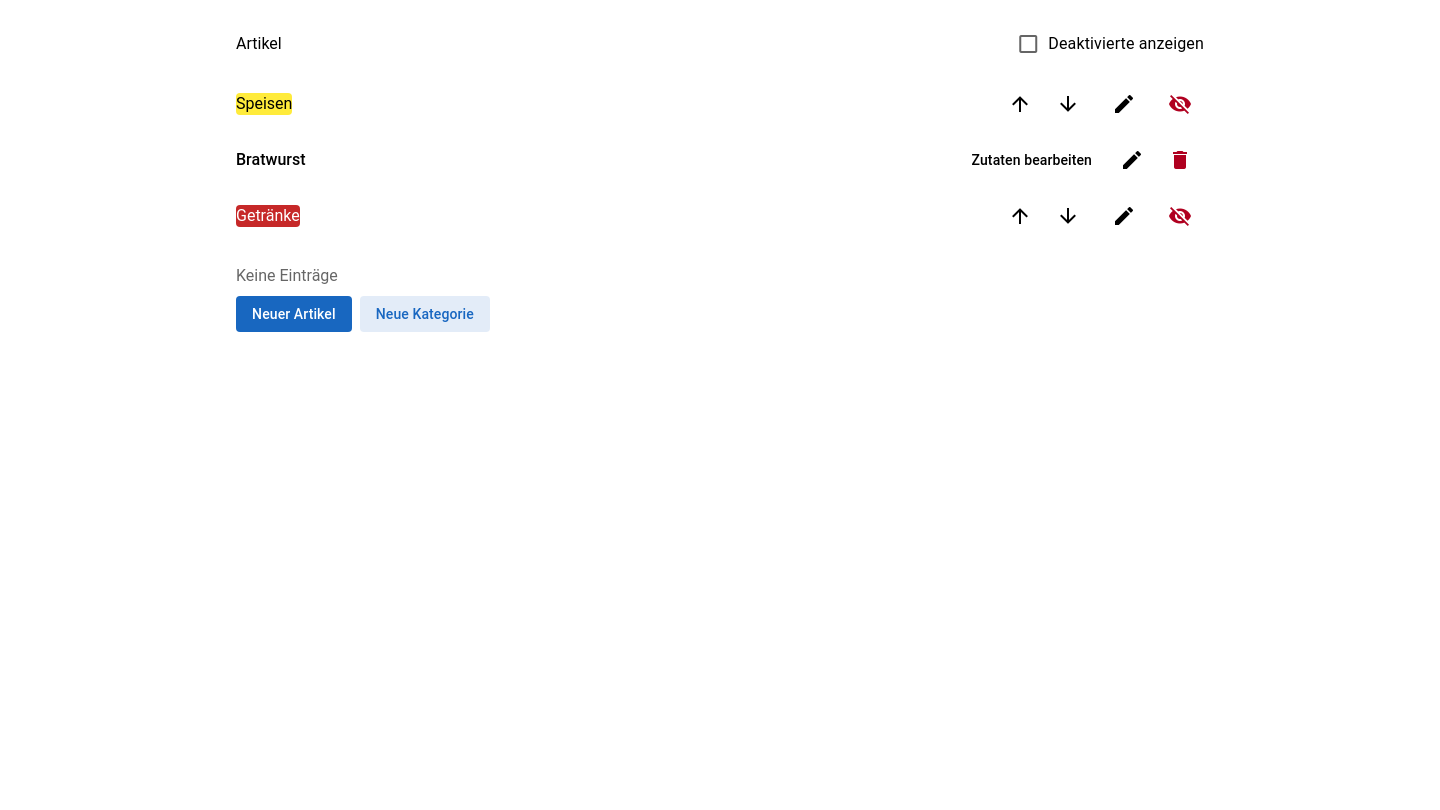
Scenario: a refusal beside an open item form › shows why the laptop refused an item action while no form or dialog is open
Expected: the element with test id "item-row" is shown, [236, 136, 1204, 184]
Step 1. Click the button with test id "deactivate-item" → click(1180, 160), box [1156, 136, 1204, 184]
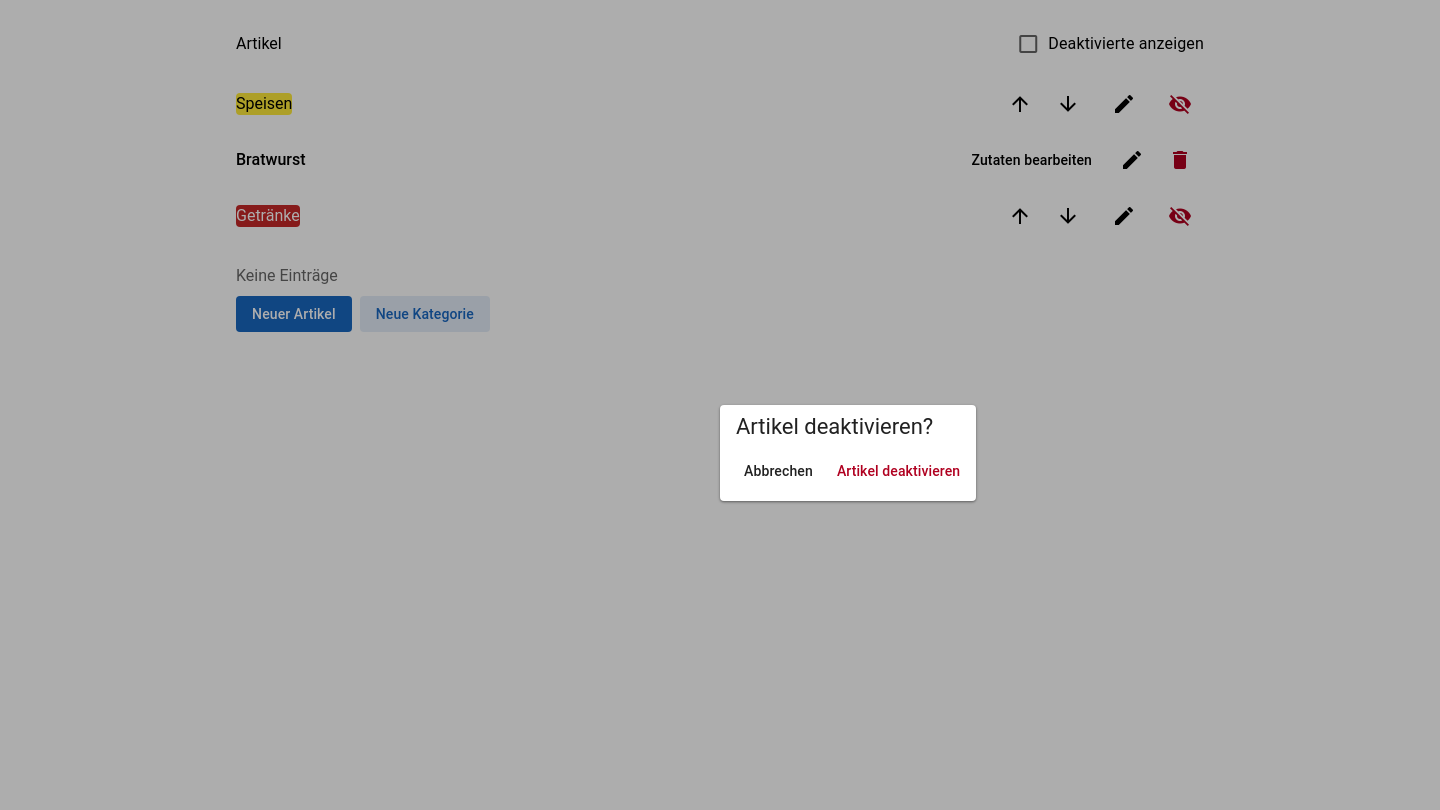
Result: the element with test id "confirm-dialog" is shown at [720, 405, 976, 501]
Step 2. Click the button with test id "confirm" → click(898, 471), box [829, 453, 968, 489]
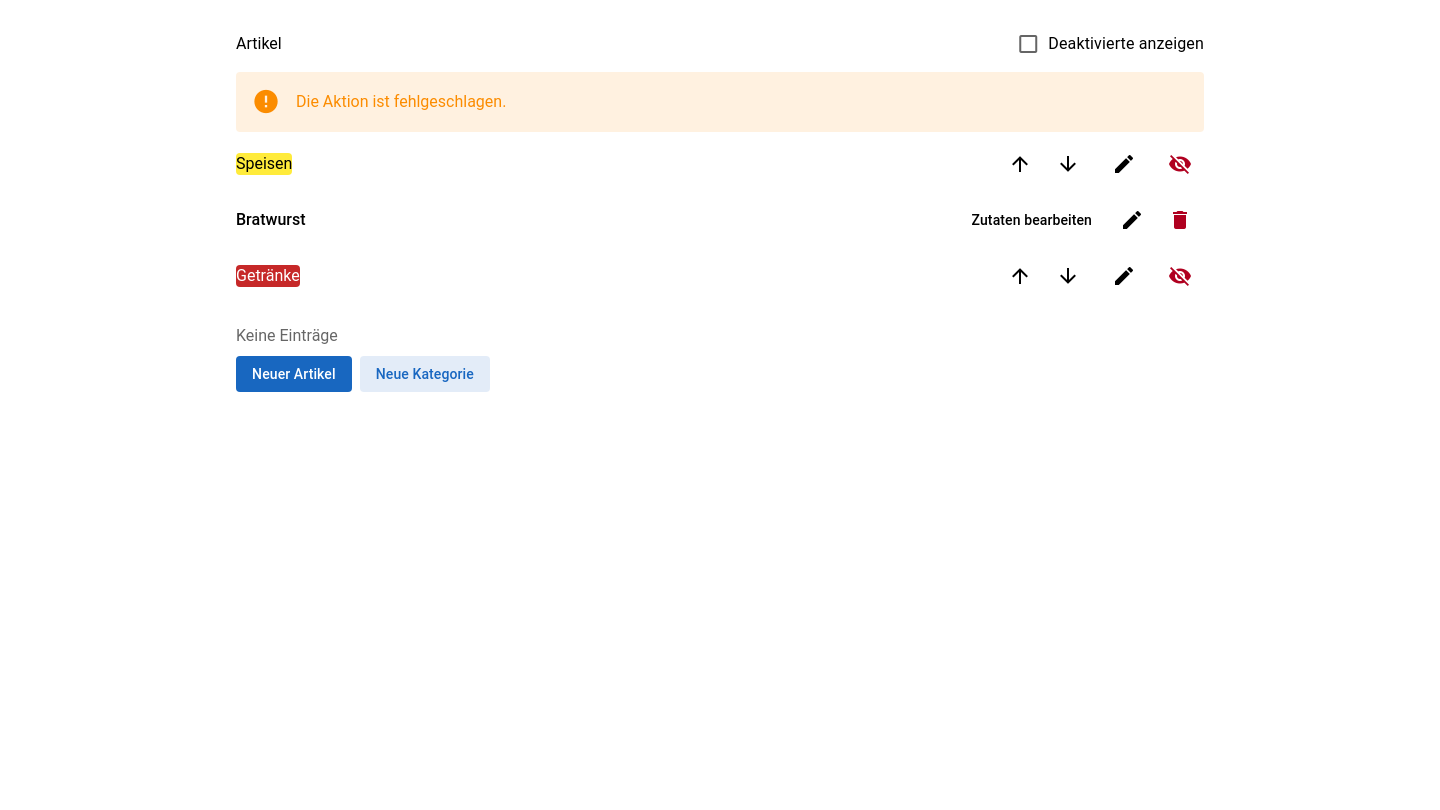
Result: the element with test id "item-refusal" reads "Die Aktion ist fehlgeschlagen." at [296, 92, 506, 111]
